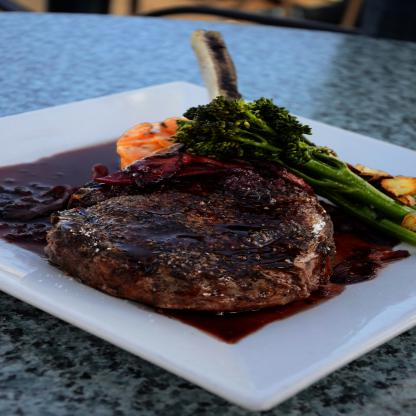Carne: (44, 164, 337, 304)
